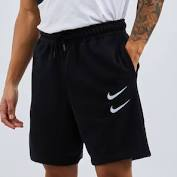nike: (101, 84, 131, 101), (108, 99, 136, 116)
